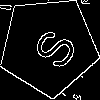S: (23, 21, 80, 73)
